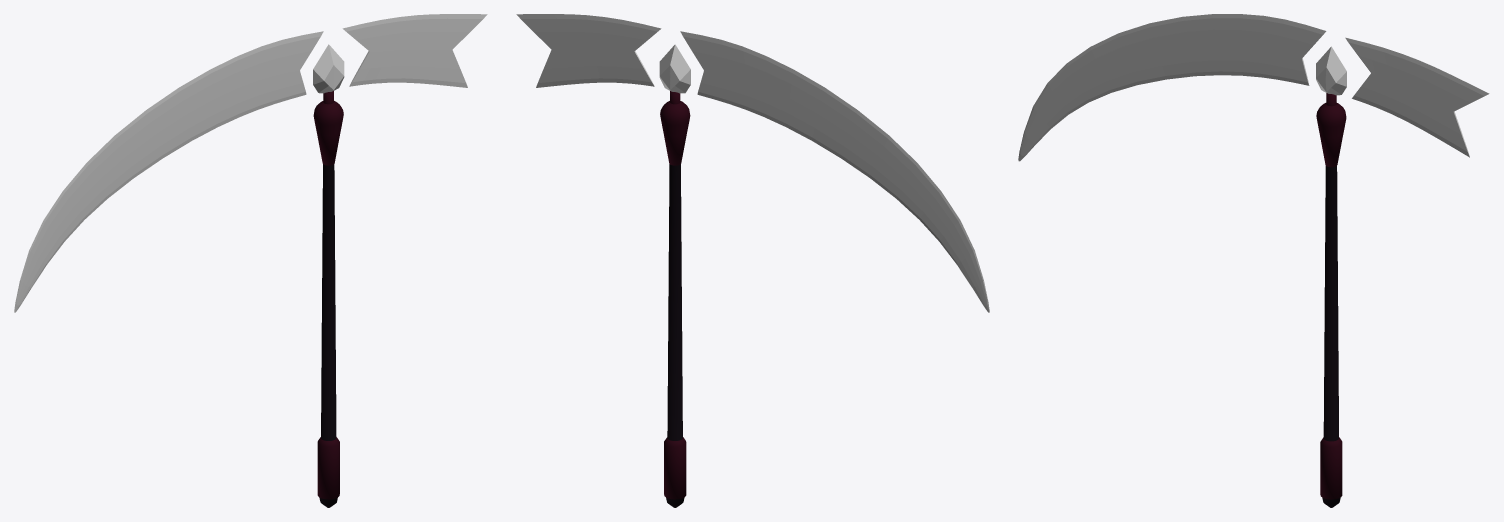
The model's file is rejuvenator.obj.
3 renders of one model, left to right at view 1: azimuth 30°, elevation 25°; view 2: azimuth 150°, elevation 25°; view 3: azimuth 330°, elevation 25°, orthographic.
Visible parts, largest first — view 1: Blade_Plane.001, Handle_Cylinder, Gem_Cube.001; view 2: Blade_Plane.001, Handle_Cylinder, Gem_Cube.001; view 3: Blade_Plane.001, Handle_Cylinder, Gem_Cube.001.
Boxes of the visible parts, box(x1,y1,x2,y2) form: Blade_Plane.001: box(14, 14, 487, 312); Handle_Cylinder: box(313, 91, 343, 507); Gem_Cube.001: box(313, 44, 344, 93); Blade_Plane.001: box(516, 14, 989, 312); Handle_Cylinder: box(660, 91, 690, 507); Gem_Cube.001: box(659, 44, 690, 93); Blade_Plane.001: box(1018, 14, 1489, 161); Handle_Cylinder: box(1316, 93, 1346, 507); Gem_Cube.001: box(1316, 46, 1346, 95).
Bounding box in the file's own units: 4.66 × 4.51 × 0.2602.
